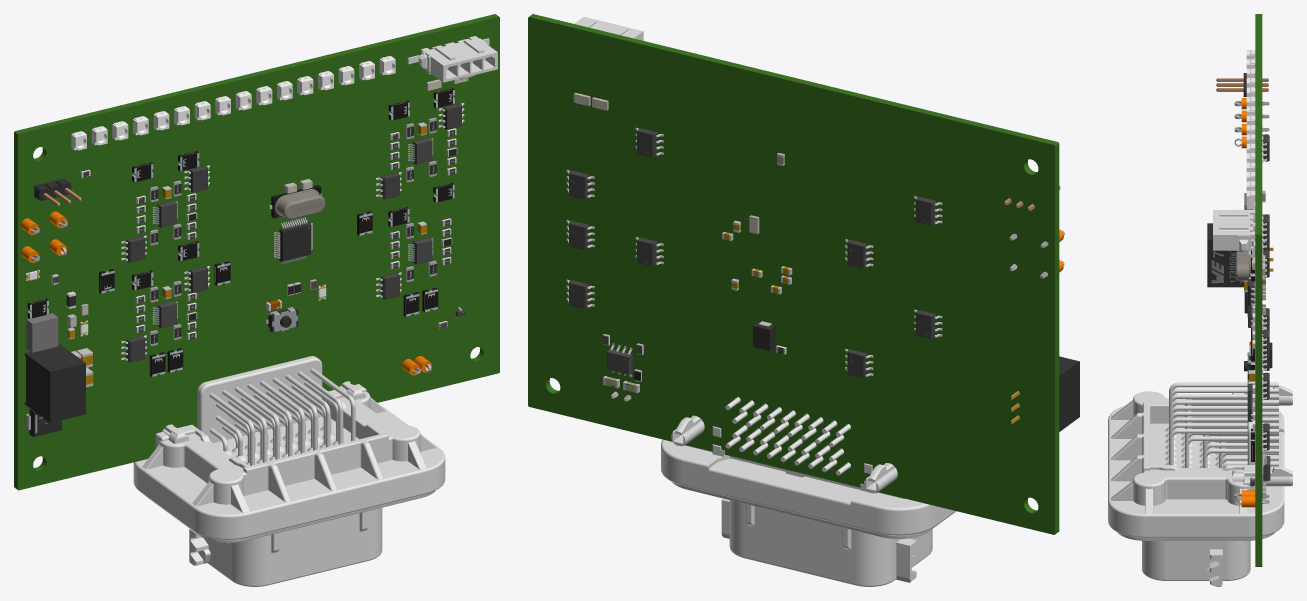
The model's file is pdm.glb.
3 renders of one model, left to right at view 1: azimuth 30°, elevation 25°; view 2: azimuth 150°, elevation 25°; view 3: azimuth 270°, elevation 25°, orthographic. The views are drawn at different scales.
Parts seen in each view (by area): view 1: =>[0:1:1:3], =>[0:1:1:381], =>[0:1:1:10], =>[0:1:1:222], =>[0:1:1:252], =>[0:1:1:236], =>[0:1:1:256]; view 2: =>[0:1:1:3], =>[0:1:1:381], =>[0:1:1:10]; view 3: =>[0:1:1:381], =>[0:1:1:3], =>[0:1:1:222], =>[0:1:1:10], =>[0:1:1:236].
Part boxes in pixels (x1,y1,x2,y2): =>[0:1:1:3]: (14, 14, 499, 490); =>[0:1:1:381]: (133, 356, 445, 586); =>[0:1:1:10]: (24, 344, 85, 422); =>[0:1:1:222]: (407, 36, 497, 82); =>[0:1:1:252]: (274, 217, 312, 263); =>[0:1:1:236]: (269, 185, 325, 219); =>[0:1:1:256]: (26, 313, 58, 352); =>[0:1:1:3]: (528, 14, 1059, 534); =>[0:1:1:381]: (661, 396, 956, 586); =>[0:1:1:10]: (1011, 356, 1079, 431); =>[0:1:1:381]: (1108, 379, 1292, 586); =>[0:1:1:3]: (1255, 14, 1262, 566); =>[0:1:1:222]: (1213, 209, 1255, 255); =>[0:1:1:10]: (1207, 223, 1273, 287); =>[0:1:1:236]: (1235, 251, 1250, 280).
Size of what is drawn, in the model's own units: 0.1146 by 0.1031 by 0.0407.
